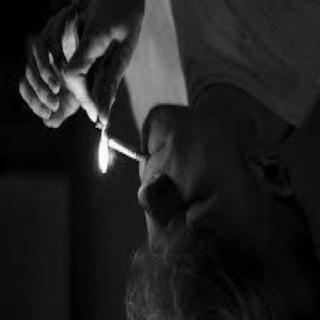Fire: (88, 106, 114, 190)
